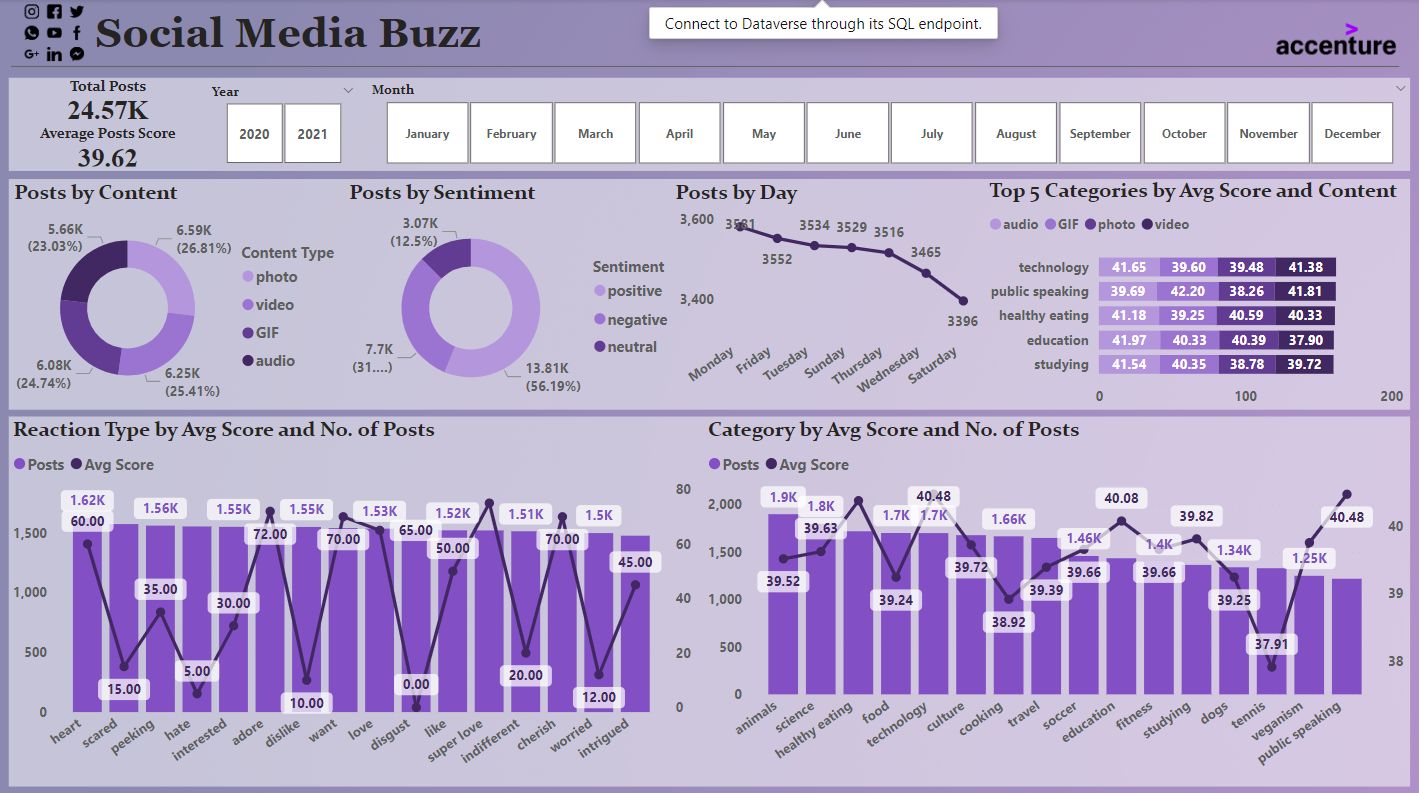

What the dashboard file says about the page in this screenshot:
{"tool":"powerbi","page":{"name":"Social","canvas":[1280,720],"ordinal":0},"visuals":[{"type":"textbox","box":[81.1,4.3,1171.4,56.5],"z":0},{"type":"basicShape","box":[0,40.5,1271.3,40.5],"z":1000},{"type":"image","box":[1136.4,0,135.1,71.1],"z":5001},{"type":"image","box":[15.6,0,65.4,61.2],"z":5002},{"type":"shape","box":[8.4,71.1,1263.3,83.7],"z":5003},{"type":"card","title":"Average Posts Score","fields":{"Values":["Avg(social.Score)"]},"box":[15.3,112.9,163.1,41.8],"z":5004},{"type":"slicer","fields":{"Values":["social.Date.Variation.Date Hierarchy.Year"]},"box":[178.5,71.1,153.4,83.7],"z":5005},{"type":"slicer","fields":{"Values":["social.Date.Variation.Date Hierarchy.Month"]},"box":[322.1,69.7,957.9,85.1],"z":5006},{"type":"shape","box":[8.4,161.7,1263.3,207.8],"z":5007},{"type":"donutChart","title":"Posts by Content","fields":{"Category":["social.Content Type"],"Y":["CountNonNull(social.Content ID)"]},"box":[8.4,161.7,316.5,210.5],"z":5008},{"type":"donutChart","title":"Posts by Sentiment","fields":{"Y":["CountNonNull(social.Content ID)"],"Category":["social.Sentiment"]},"box":[309.5,161.7,316.5,210.5],"z":5009},{"type":"shape","box":[8.4,376.5,1263.3,333.2],"z":5011},{"type":"lineClusteredColumnComboChart","title":"Reaction Type by Avg Score and No. of Posts","fields":{"Category":["social.Reaction Type"],"Y":["CountNonNull(social.Content ID)"],"Y2":["Avg(social.Score)"]},"box":[6.9,376.8,621.6,333.4],"z":5012},{"type":"lineChart","title":"Posts by Day","fields":{"Category":["social.Day Name"],"Y":["CountNonNull(social.Content ID)"]},"box":[603.7,161.7,283.1,207.8],"z":5013},{"type":"lineClusteredColumnComboChart","title":"Category by Avg Score and No. of Posts","fields":{"Y2":["Avg(social.Score)"],"Category":["social.Category"],"Y":["CountNonNull(social.Content ID)"]},"box":[633.8,376.8,637.2,333.4],"z":5014},{"type":"barChart","title":"Top 5 Categories by Avg Score and Content","fields":{"Category":["social.Category"],"Y":["Avg(social.Score)"],"Series":["social.Content Type"]},"box":[887.3,161.5,383.7,215.3],"z":5015},{"type":"card","title":"Total Posts","fields":{"Values":["CountNonNull(social.Content ID)"]},"box":[15.3,69.7,163.1,43.2],"z":5016}]}

Visuals, with their boxes in screenshot pixels (x1, y1, x2, y2), scaled from the page's 1280x720 canvas onto the 1419x793 screenshot:
textbox: (90, 5, 1389, 67)
basicShape: (0, 45, 1409, 89)
image: (1260, 0, 1410, 78)
image: (17, 0, 90, 67)
shape: (9, 78, 1410, 170)
"Average Posts Score" card: (17, 124, 198, 170)
slicer - social.Date.Variation.Date Hierarchy.Year: (198, 78, 368, 170)
slicer - social.Date.Variation.Date Hierarchy.Month: (357, 77, 1418, 170)
shape: (9, 178, 1410, 407)
"Posts by Content" donutChart: (9, 178, 360, 410)
"Posts by Sentiment" donutChart: (343, 178, 694, 410)
shape: (9, 415, 1410, 782)
"Reaction Type by Avg Score and No. of Posts" lineClusteredColumnComboChart: (8, 415, 697, 782)
"Posts by Day" lineChart: (669, 178, 983, 407)
"Category by Avg Score and No. of Posts" lineClusteredColumnComboChart: (703, 415, 1409, 782)
"Top 5 Categories by Avg Score and Content" barChart: (984, 178, 1409, 415)
"Total Posts" card: (17, 77, 198, 124)
